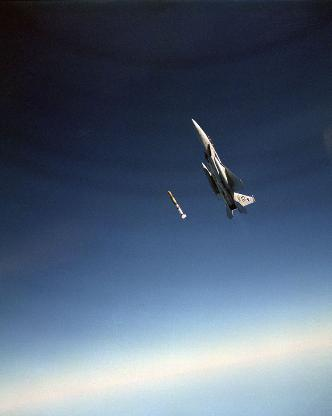F117: (189, 118, 254, 218)
